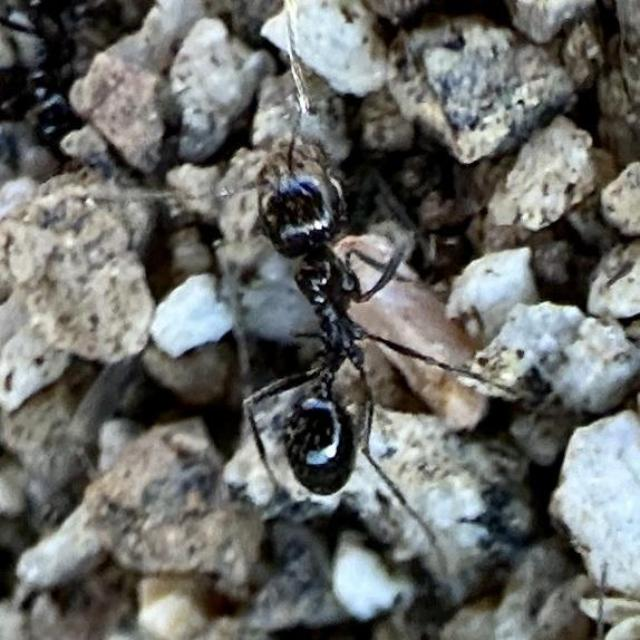Messor: (228, 148, 428, 524)
